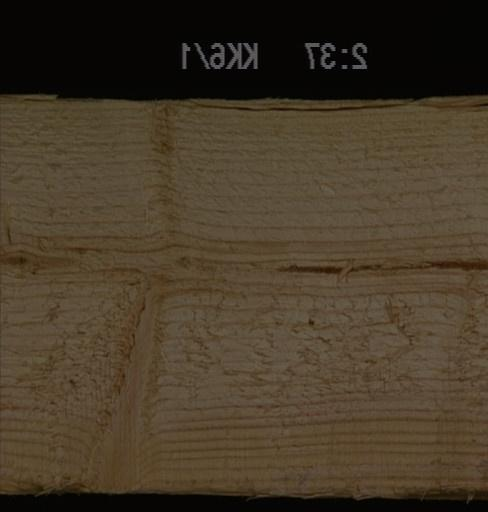split: (183, 98, 486, 116)
